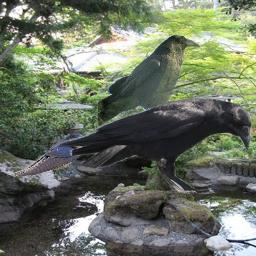Crow: (55, 97, 252, 194), (98, 34, 201, 128)
Swallow: (7, 132, 87, 178)
